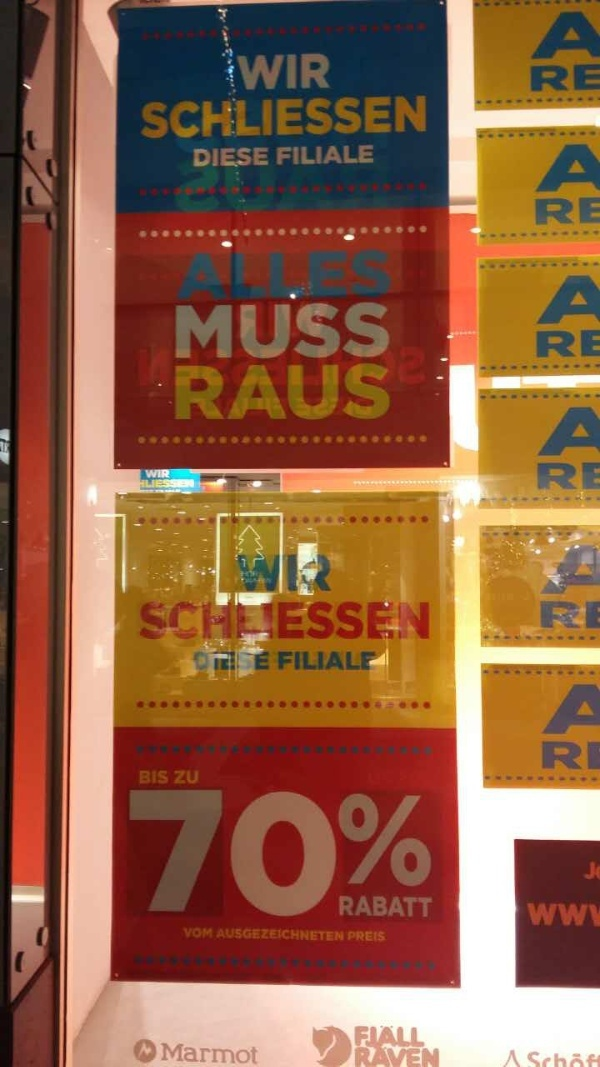text: (129, 786, 144, 921), (145, 786, 160, 921), (161, 786, 176, 921), (177, 786, 192, 921), (193, 786, 208, 921), (209, 786, 224, 921), (225, 786, 240, 921), (241, 786, 256, 921), (257, 786, 272, 921), (273, 786, 288, 921), (289, 786, 304, 921), (305, 786, 320, 921), (321, 786, 336, 921), (337, 786, 352, 921), (353, 786, 368, 921), (369, 786, 384, 921), (385, 786, 400, 921), (401, 786, 416, 921), (417, 786, 432, 921), (177, 359, 192, 427), (193, 359, 208, 427), (209, 359, 224, 427), (225, 359, 240, 427), (241, 359, 256, 427), (257, 359, 272, 427), (273, 359, 288, 427), (289, 359, 304, 427), (305, 359, 320, 427), (321, 359, 336, 427), (337, 359, 352, 427), (353, 359, 368, 427), (369, 359, 384, 427), (177, 302, 192, 363), (193, 302, 208, 363), (209, 302, 224, 363), (225, 302, 240, 363), (241, 302, 256, 363), (257, 302, 272, 363), (273, 302, 288, 363), (289, 302, 304, 363), (305, 302, 320, 363), (321, 302, 336, 363), (337, 302, 352, 363), (353, 302, 368, 363), (369, 302, 384, 363), (209, 244, 224, 302), (225, 244, 240, 302), (241, 244, 256, 302), (257, 244, 272, 302), (273, 244, 288, 302), (289, 244, 304, 302), (305, 244, 320, 302), (321, 244, 336, 302), (337, 244, 352, 302), (353, 244, 368, 302), (369, 244, 384, 302), (561, 6, 576, 61), (577, 6, 592, 61), (577, 271, 592, 326), (577, 405, 592, 460), (577, 682, 592, 737), (145, 88, 160, 142), (161, 88, 176, 142), (177, 88, 192, 142), (193, 88, 208, 142), (209, 88, 224, 142), (225, 88, 240, 142), (241, 88, 256, 142), (257, 88, 272, 142), (273, 88, 288, 142), (289, 88, 304, 142), (305, 88, 320, 142), (321, 88, 336, 142), (337, 88, 352, 142), (353, 88, 368, 142), (369, 88, 384, 142), (385, 88, 400, 142), (401, 88, 416, 142), (577, 141, 592, 194), (145, 594, 160, 646), (161, 594, 176, 646), (177, 594, 192, 646), (193, 594, 208, 646), (209, 594, 224, 646), (225, 594, 240, 646), (241, 594, 256, 646), (257, 594, 272, 646), (273, 594, 288, 646), (289, 594, 304, 646), (305, 594, 320, 646), (321, 594, 336, 646), (337, 594, 352, 646), (353, 594, 368, 646), (369, 594, 384, 646), (385, 594, 400, 646), (401, 594, 416, 646), (577, 544, 592, 595), (195, 244, 208, 302), (417, 594, 431, 646), (241, 547, 256, 593), (257, 547, 272, 593), (273, 547, 288, 593), (289, 547, 304, 593), (305, 547, 320, 593), (123, 786, 128, 921), (241, 52, 256, 96), (257, 52, 272, 96), (273, 52, 288, 96), (289, 52, 304, 96), (305, 52, 320, 96), (401, 344, 416, 388), (564, 141, 576, 194), (145, 348, 160, 390), (417, 88, 428, 142), (529, 900, 544, 935), (545, 900, 560, 935), (561, 900, 576, 935), (545, 739, 560, 774), (561, 739, 576, 774), (577, 739, 592, 774), (545, 61, 560, 94), (561, 61, 576, 94), (577, 61, 592, 94), (567, 271, 576, 326), (545, 598, 560, 631), (561, 598, 576, 631), (577, 598, 592, 631), (545, 328, 560, 360), (561, 328, 576, 360), (577, 328, 592, 360), (385, 244, 393, 302), (530, 61, 544, 94), (161, 348, 172, 390), (321, 547, 331, 593), (577, 900, 590, 935), (545, 197, 560, 227), (561, 197, 576, 227), (577, 197, 592, 227), (369, 1022, 384, 1052), (385, 1022, 400, 1052), (401, 1022, 416, 1052), (321, 52, 331, 96), (568, 405, 576, 460), (353, 895, 368, 924), (369, 895, 384, 924), (385, 895, 400, 924), (401, 895, 416, 924), (417, 895, 432, 924), (545, 462, 560, 491), (561, 462, 576, 491), (577, 462, 592, 491), (385, 359, 391, 427), (338, 895, 352, 924), (417, 344, 426, 388), (289, 142, 304, 168), (305, 142, 320, 168), (321, 142, 336, 168), (337, 142, 352, 168), (353, 142, 368, 168), (209, 649, 224, 675), (225, 649, 240, 675), (241, 649, 256, 675), (161, 1041, 176, 1067), (177, 1041, 192, 1067), (193, 1041, 208, 1067), (209, 1041, 224, 1067), (225, 1041, 240, 1067), (241, 1041, 256, 1067), (355, 1022, 368, 1052), (593, 271, 600, 326), (593, 405, 600, 460), (593, 682, 600, 737), (193, 146, 208, 171), (209, 146, 224, 171), (225, 146, 240, 171), (241, 146, 256, 171), (593, 141, 600, 194), (385, 302, 391, 363), (194, 649, 208, 675), (257, 649, 271, 675), (289, 648, 304, 672), (305, 648, 320, 672), (321, 648, 336, 672), (337, 648, 352, 672), (353, 648, 368, 672), (593, 544, 600, 595), (177, 767, 192, 789), (593, 6, 599, 61), (193, 925, 208, 946), (276, 142, 288, 168), (257, 146, 269, 171), (145, 770, 160, 790), (369, 1047, 384, 1067), (385, 1047, 400, 1067), (401, 1047, 416, 1067), (417, 1047, 432, 1067), (535, 197, 544, 227), (417, 1022, 426, 1052), (513, 1049, 528, 1067), (529, 1049, 544, 1067), (545, 1049, 560, 1067), (561, 1049, 576, 1067), (577, 1049, 592, 1067), (355, 1047, 368, 1067), (536, 328, 544, 360), (225, 929, 240, 946), (241, 929, 256, 946), (257, 929, 272, 946), (273, 929, 288, 946), (289, 929, 304, 946), (305, 929, 320, 946), (321, 929, 336, 946), (571, 544, 576, 595), (138, 348, 144, 390), (593, 739, 600, 774), (278, 648, 288, 672), (353, 932, 368, 948), (369, 932, 384, 948), (593, 899, 600, 932), (593, 61, 600, 94), (593, 598, 600, 631), (593, 328, 600, 360), (182, 925, 192, 946), (593, 197, 600, 227), (537, 462, 544, 491), (593, 462, 600, 491), (369, 648, 377, 672), (236, 547, 240, 593), (369, 142, 376, 168), (161, 770, 170, 790), (236, 52, 240, 96), (193, 767, 201, 789), (573, 682, 576, 737), (141, 594, 144, 646), (337, 929, 346, 946), (433, 1047, 440, 1067), (146, 470, 160, 480), (540, 598, 544, 631), (593, 1049, 600, 1067), (506, 1049, 512, 1067), (209, 925, 214, 946), (541, 739, 544, 774), (139, 770, 144, 790), (161, 470, 169, 480), (220, 929, 224, 946), (590, 899, 592, 932), (348, 932, 352, 948), (559, 6, 560, 61), (143, 88, 144, 142), (257, 1041, 259, 1067), (174, 767, 176, 789), (527, 900, 528, 935), (385, 932, 387, 948), (433, 895, 434, 924)
